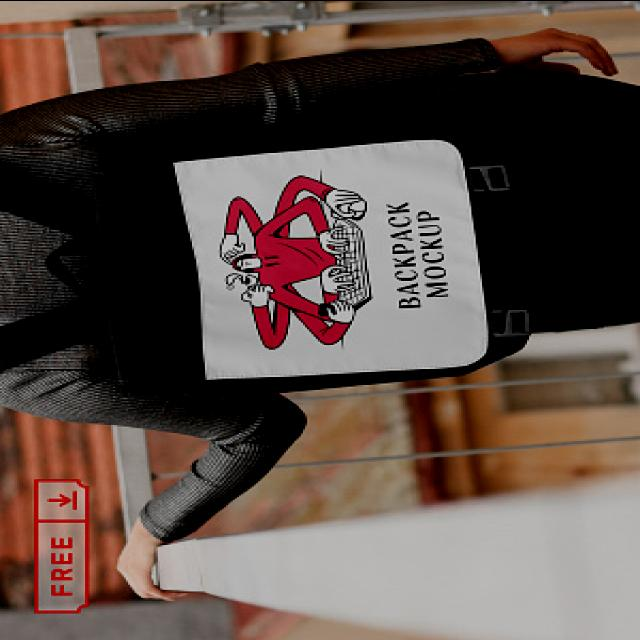backpack: (1, 109, 534, 403)
